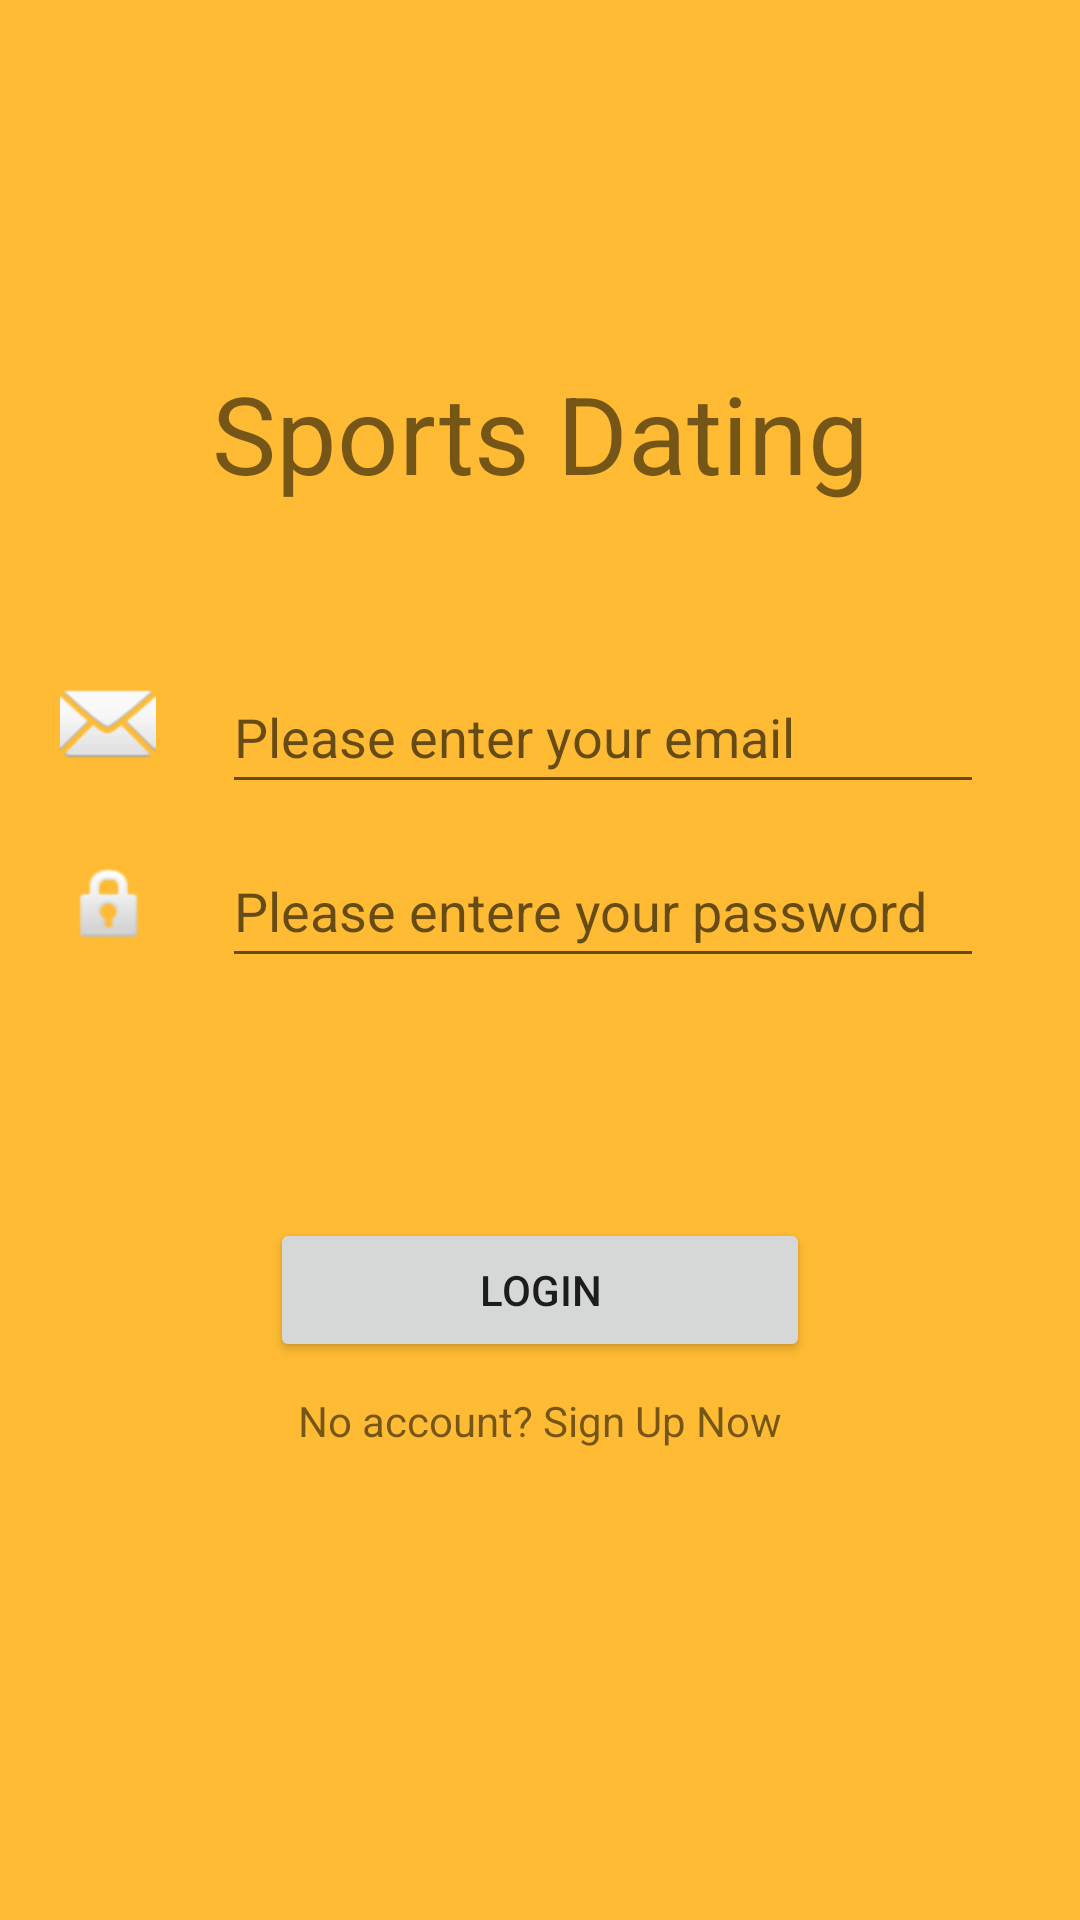

Where icons sit on this 1080 × 1920 app screen, as (x1, y1, x2, y2):
lock idle: (79, 869, 138, 938)
